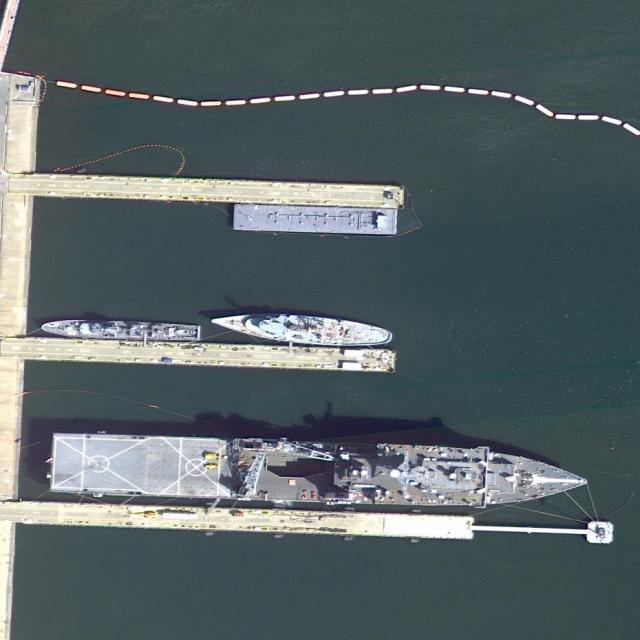Dock: (15, 502, 611, 544), (35, 171, 404, 209), (25, 335, 394, 371)
Landing: (47, 428, 590, 516)
Other Warship: (209, 310, 392, 345), (41, 317, 203, 342)
